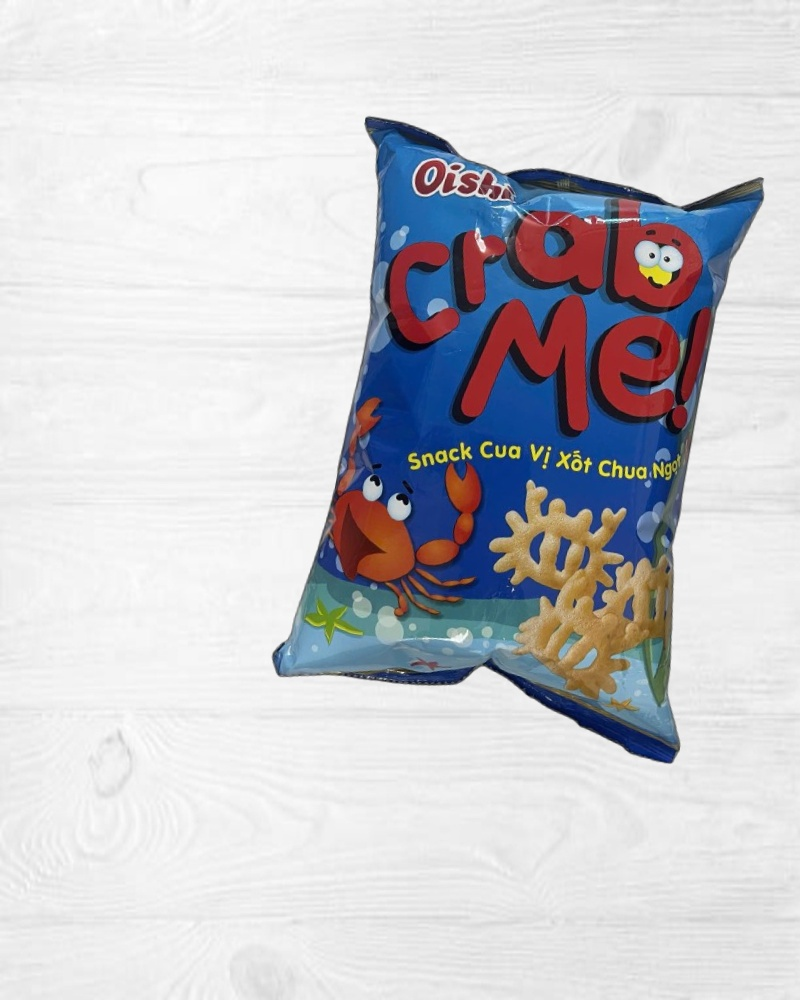Snack cua: (266, 109, 780, 759)
